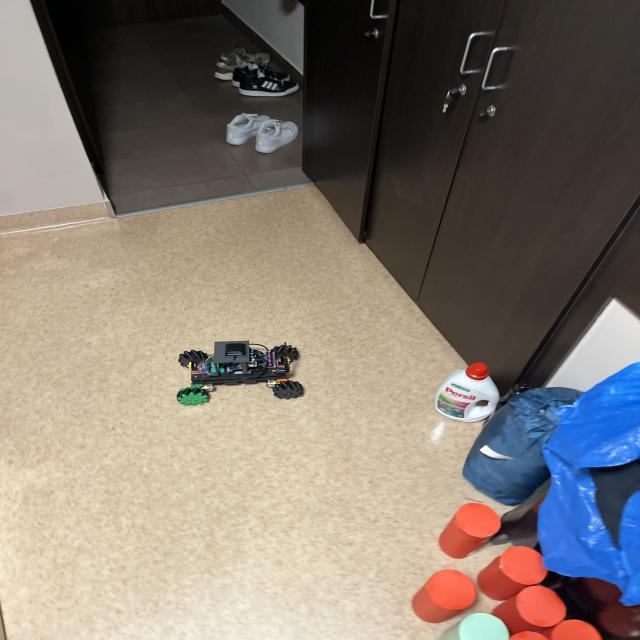robot: (177, 341, 304, 405)
